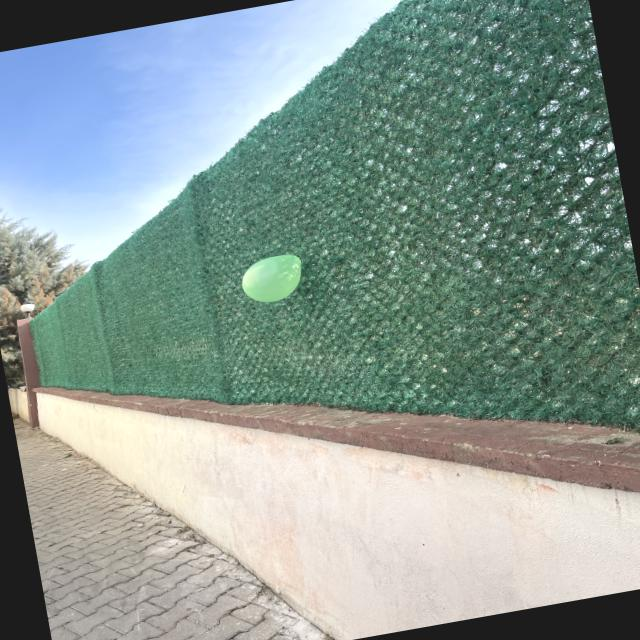balloon: (242, 254, 301, 301)
